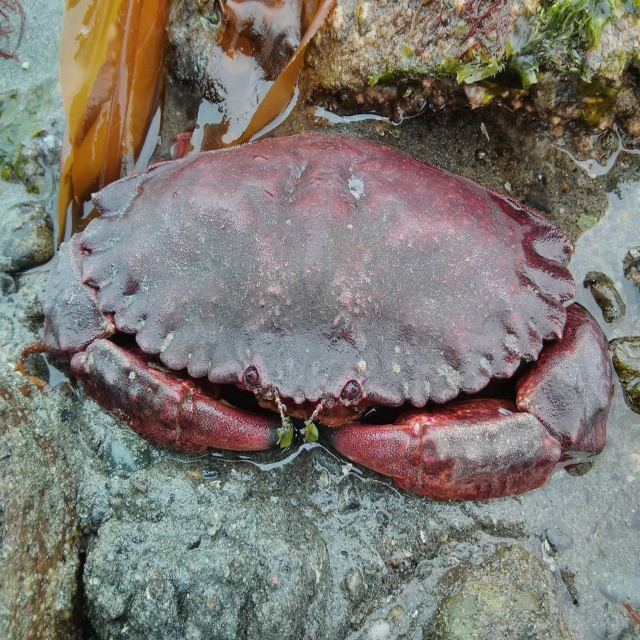Crab: (44, 131, 618, 508)
